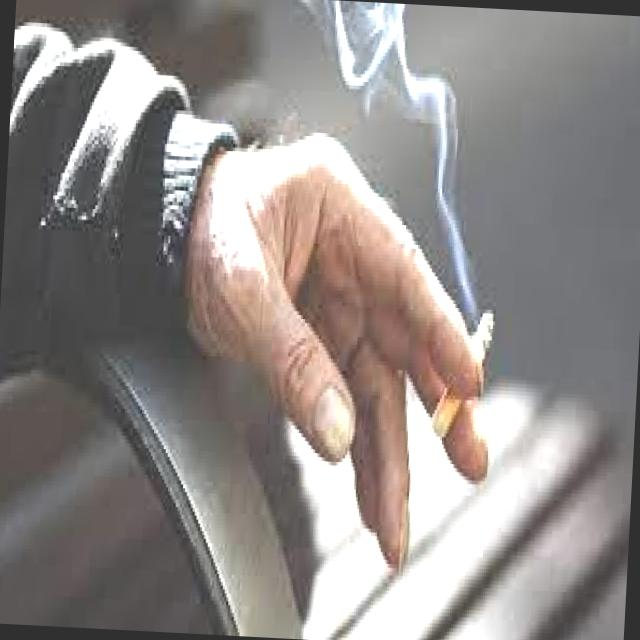smoke: (427, 296, 500, 444)
